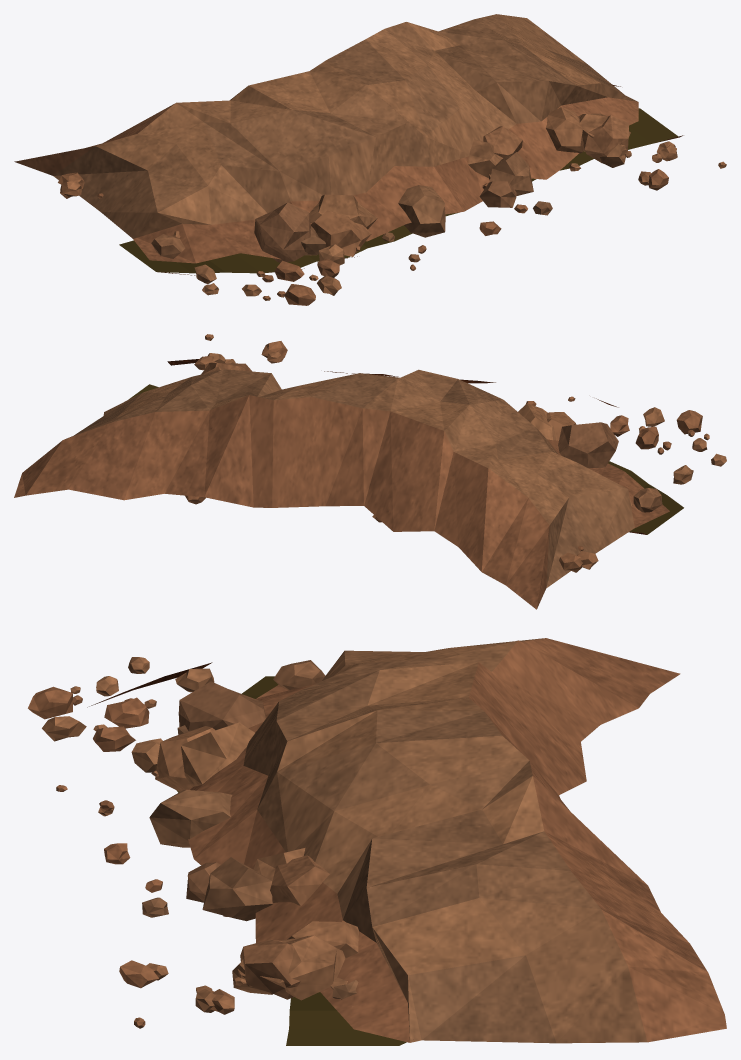
Rendered from claySite.glb.
3 views of the same model, one above another, from view 1: azimuth 30°, elevation 25°; view 2: azimuth 150°, elevation 25°; view 3: azimuth 270°, elevation 25° (orthographic). The views are drawn at different scales.
Visible parts, largest first — view 1: part_0, part_2; view 2: part_0, part_2; view 3: part_0, part_2.
Boxes of the visible parts, box(x1,y1,x2,y2) form: part_0: box(14, 14, 726, 305); part_2: box(119, 108, 678, 273); part_0: box(14, 334, 726, 609); part_2: box(128, 384, 683, 534); part_0: box(28, 638, 726, 1043); part_2: box(176, 676, 406, 1045).
Bounding box in the file's own units: 2.81 × 0.5229 × 2.26.
Materials: 3 (2 with a texture image).
